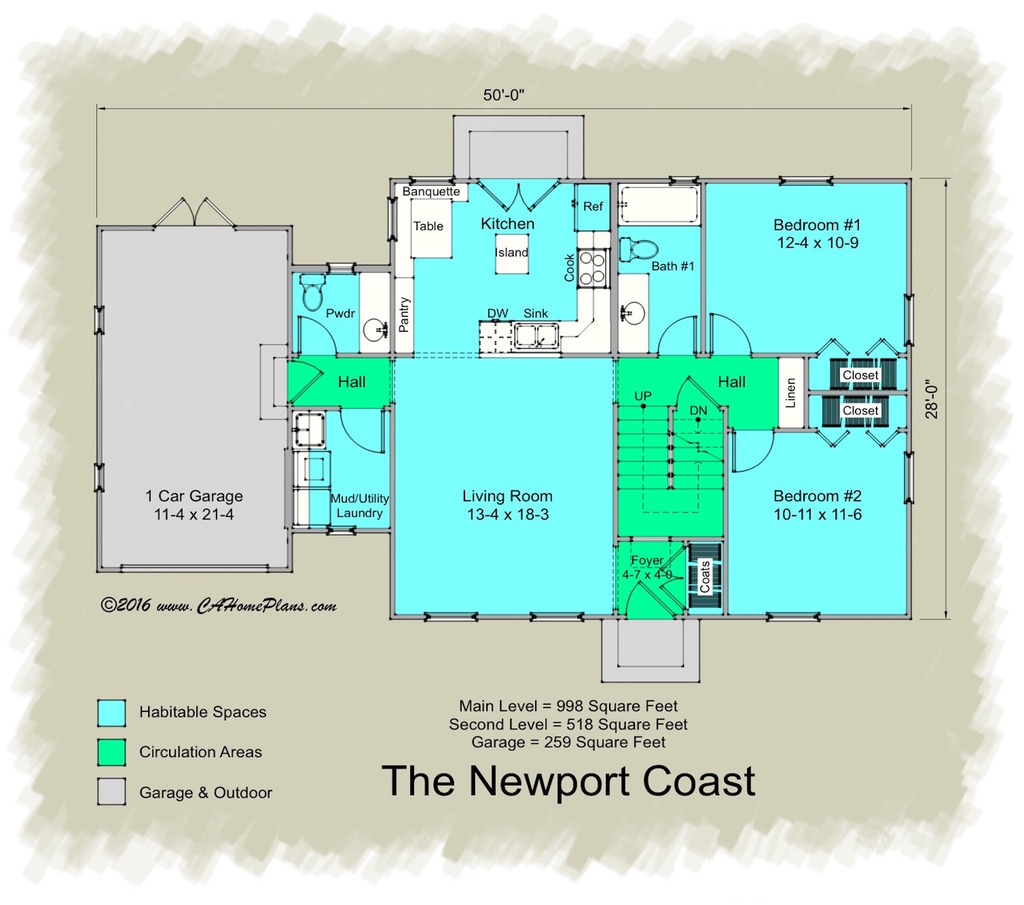door: (477, 174, 559, 213), (341, 404, 390, 460), (160, 198, 238, 230), (707, 313, 756, 363), (730, 428, 775, 477), (625, 579, 676, 621), (294, 315, 337, 359), (657, 314, 696, 356), (291, 359, 321, 406)
large_sink: (613, 233, 663, 268), (299, 266, 328, 317)
small_sink: (355, 270, 397, 353), (613, 273, 651, 356)
stairs: (618, 404, 735, 546)
tub: (616, 177, 701, 228)
twin_sink: (513, 321, 563, 349)
windows: (417, 608, 589, 625), (897, 447, 922, 509), (770, 170, 836, 190), (902, 284, 917, 346)
